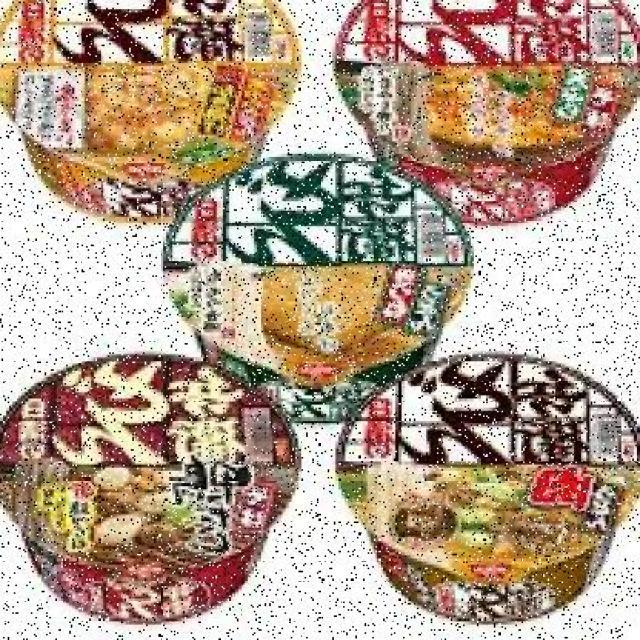Miscellaneous: (335, 342, 640, 618), (162, 152, 462, 414), (0, 360, 289, 622), (329, 0, 640, 226), (0, 0, 302, 229)
